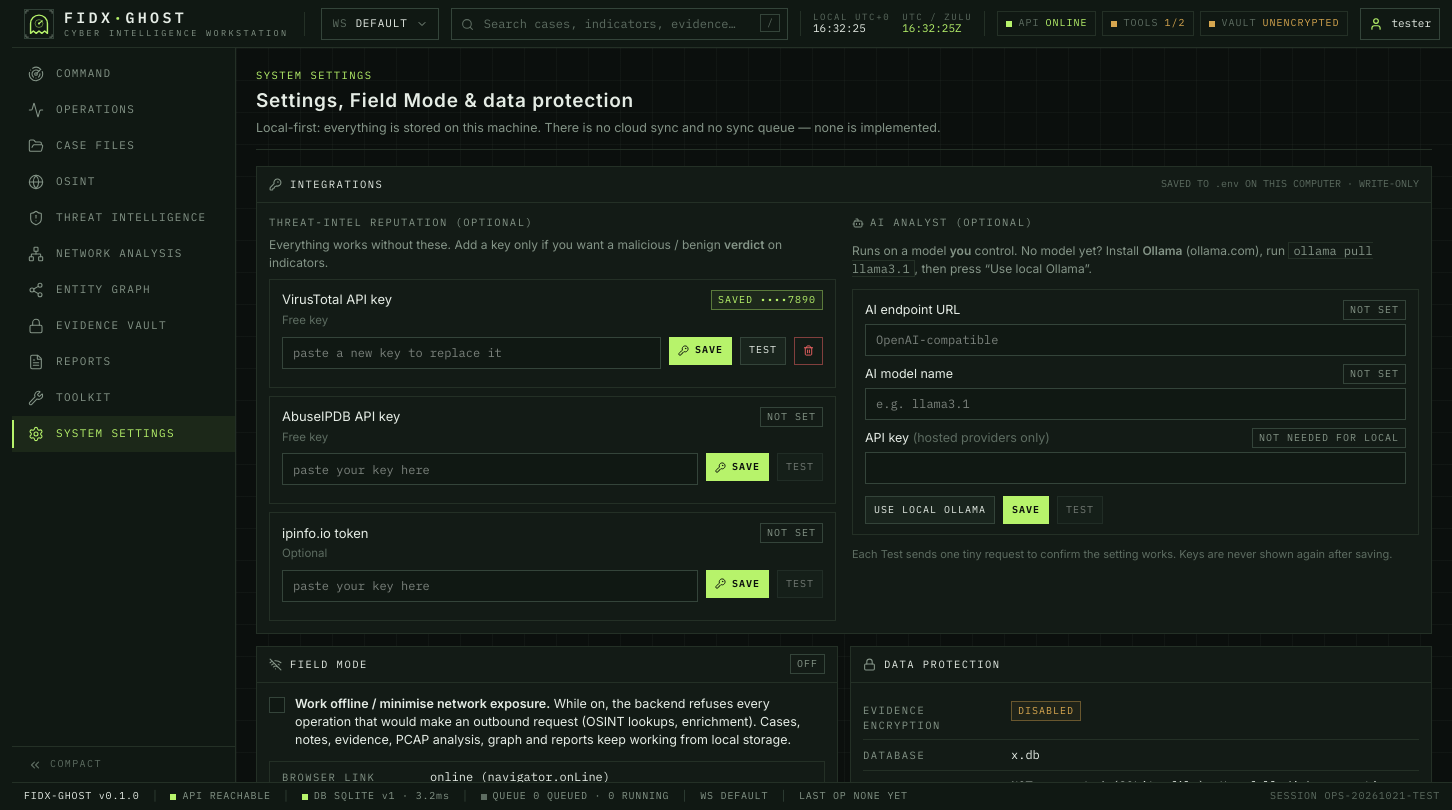
Test case: Integrations (Settings) › shows the real test outcome: accepted vs rejected
Click the button "Test" below "saved ••••7890": (763, 351) [740,337,786,365]
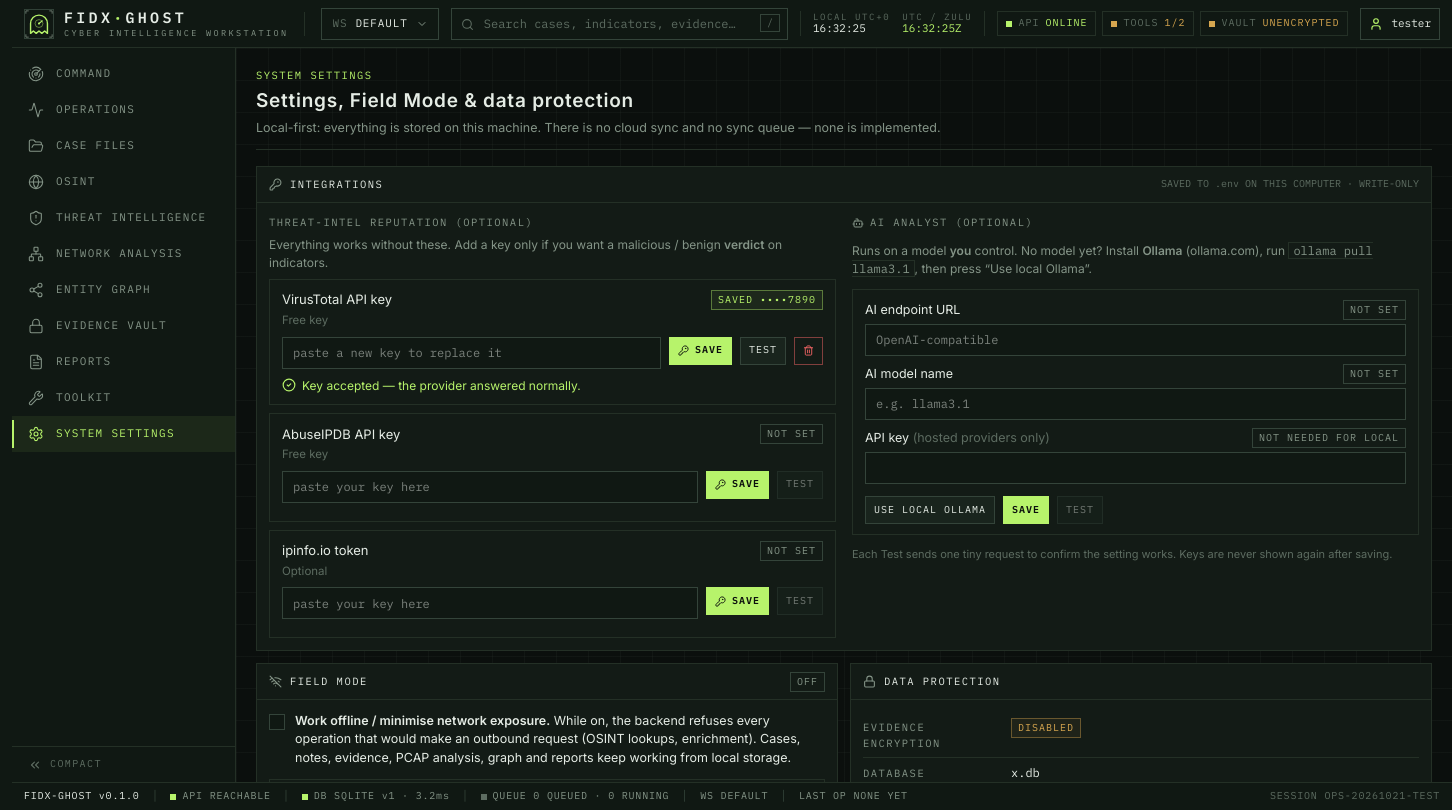
Result: the text "Key accepted — the provider answered normally." is shown at [282,378,581,393]
Click the button "Test" below "saved ••••7890": (763, 351) [740,337,786,365]
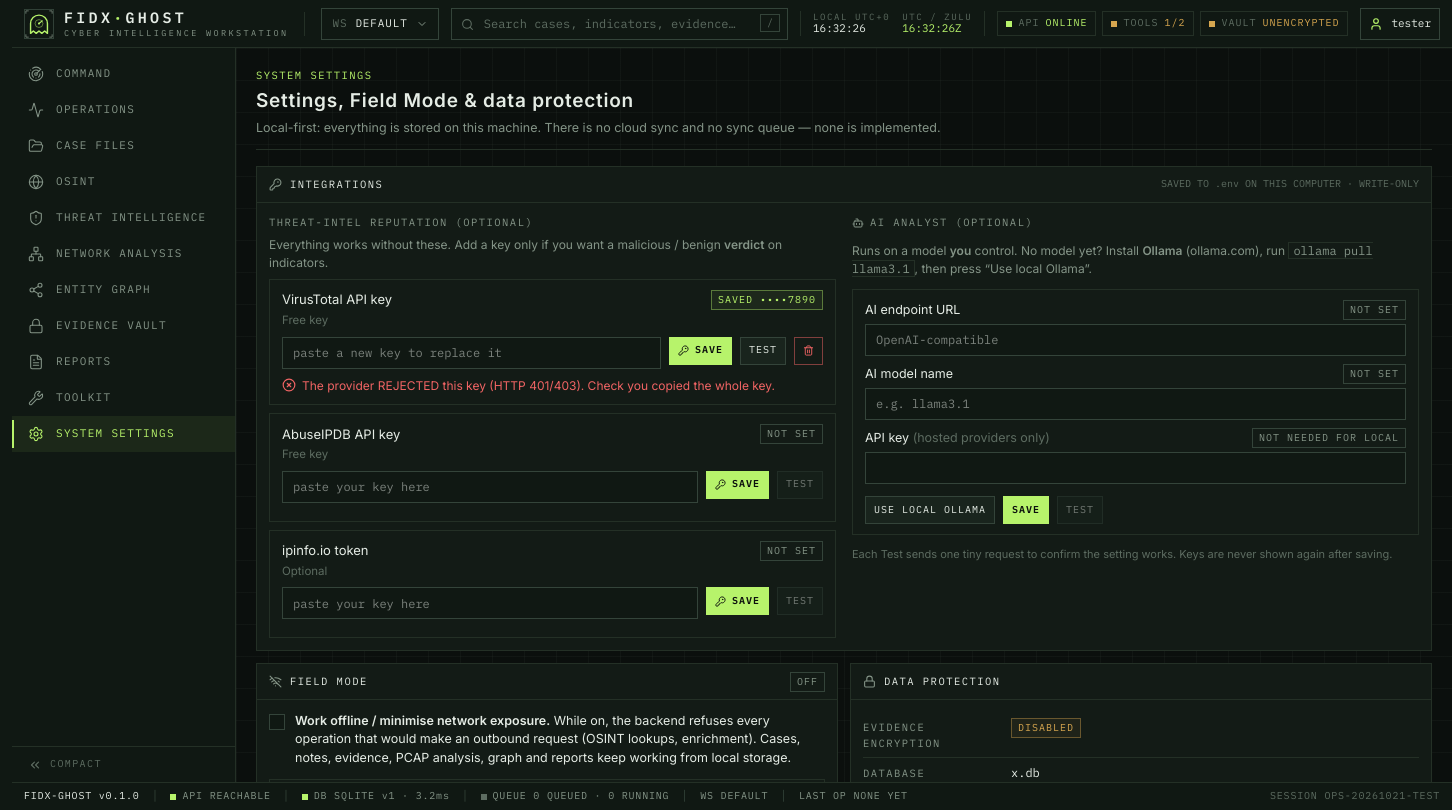
Result: the text "The provider REJECTED this key (HTTP 401/403). Check you copied the whole key." is shown at [282,377,823,394]
